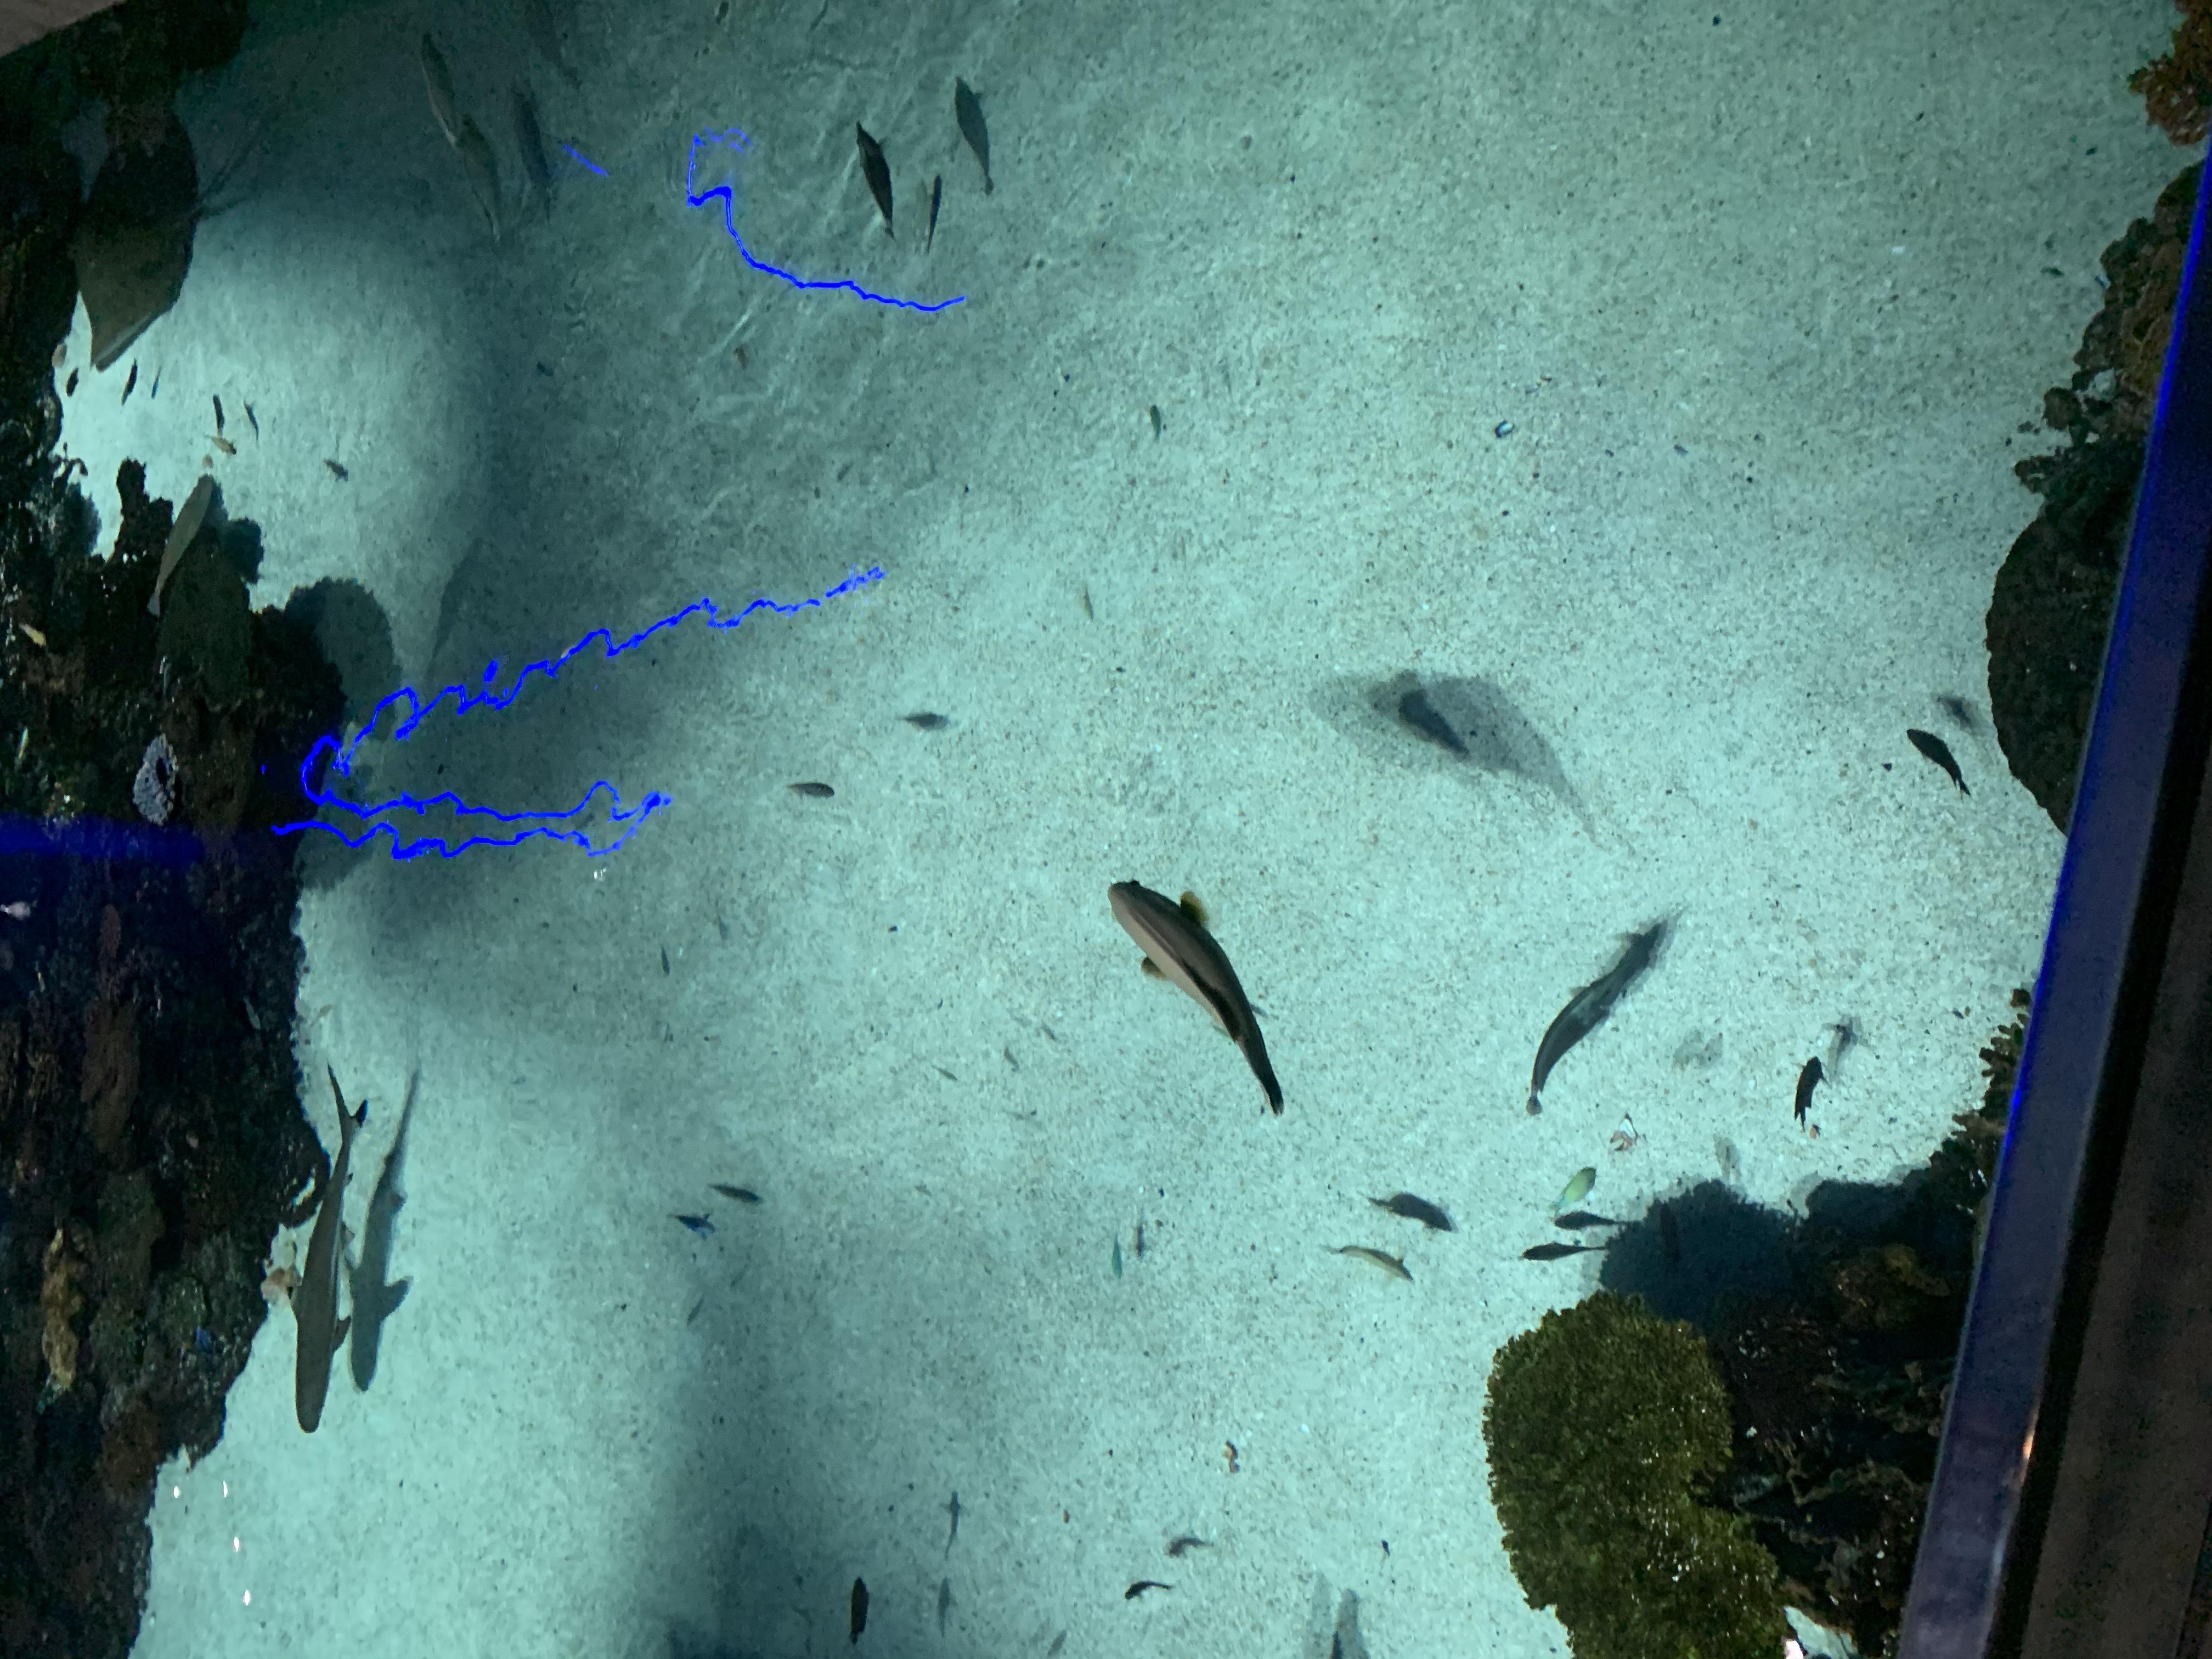fish: (1097, 870, 1296, 1126), (1517, 974, 1629, 1126), (848, 119, 911, 249), (505, 84, 561, 225), (409, 31, 470, 155), (458, 112, 510, 251), (1902, 723, 1977, 807), (1318, 1237, 1425, 1291), (834, 1565, 881, 1659), (1540, 1161, 1604, 1225), (1397, 687, 1463, 749), (960, 82, 995, 192), (1789, 1053, 1834, 1136), (660, 1201, 723, 1246), (1517, 1241, 1609, 1265), (782, 777, 845, 809), (113, 354, 143, 415), (1139, 403, 1167, 450), (197, 430, 239, 460), (319, 455, 355, 488), (61, 362, 85, 403)
shark: (284, 1063, 369, 1434)
